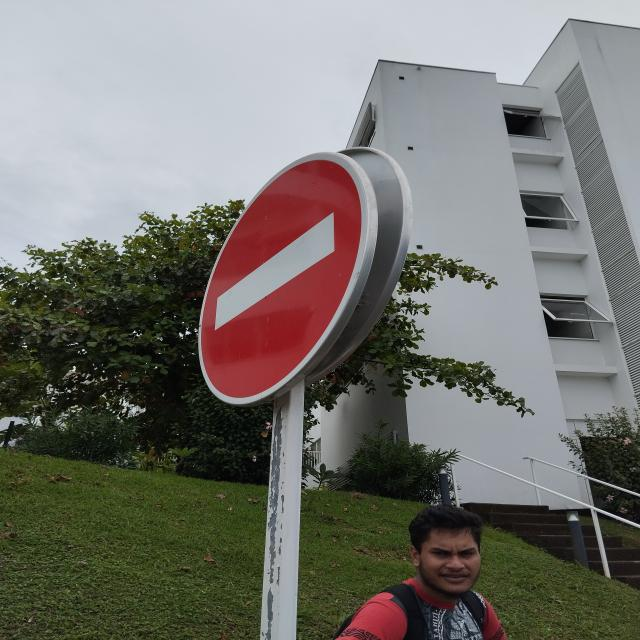Sens-Interdit: (200, 148, 380, 404)
